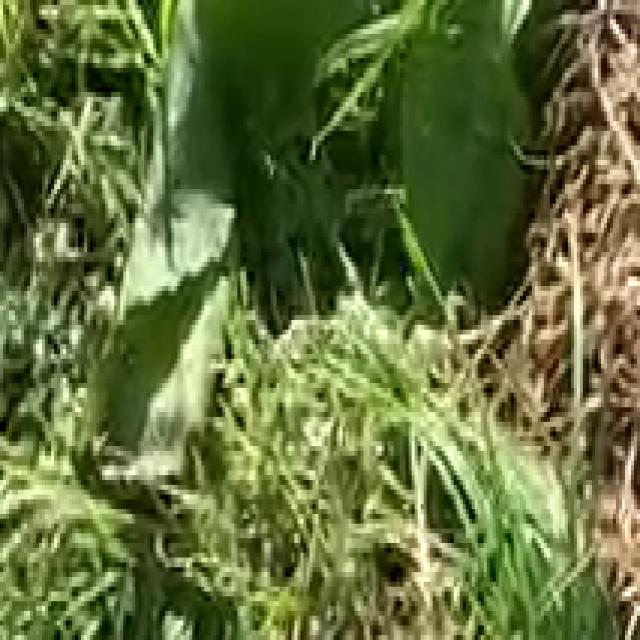organic waste: (105, 0, 574, 495)
